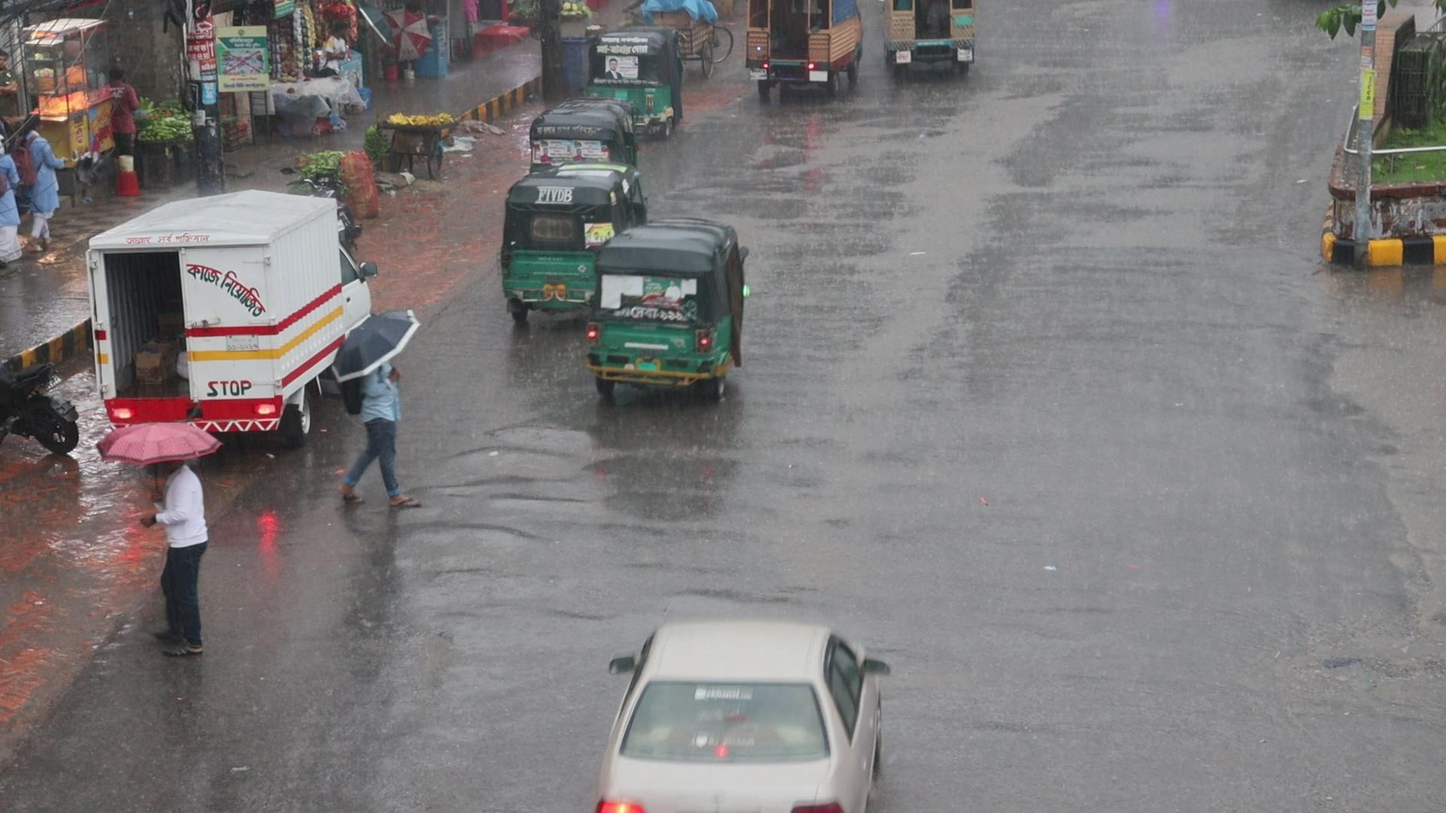Car: (583, 612, 889, 813)
